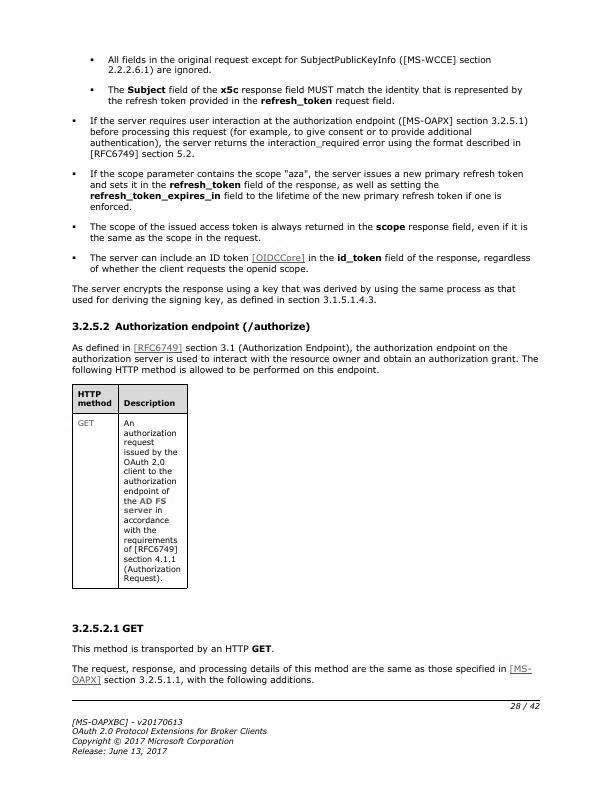table: (70, 382, 191, 593)
text: (87, 113, 543, 163), (86, 167, 531, 216), (69, 342, 547, 375), (70, 661, 535, 687), (88, 251, 535, 278), (66, 281, 518, 307), (87, 220, 530, 246), (105, 51, 496, 79), (105, 82, 525, 106), (69, 713, 268, 758), (65, 318, 316, 336), (70, 641, 278, 655), (69, 621, 150, 634)
